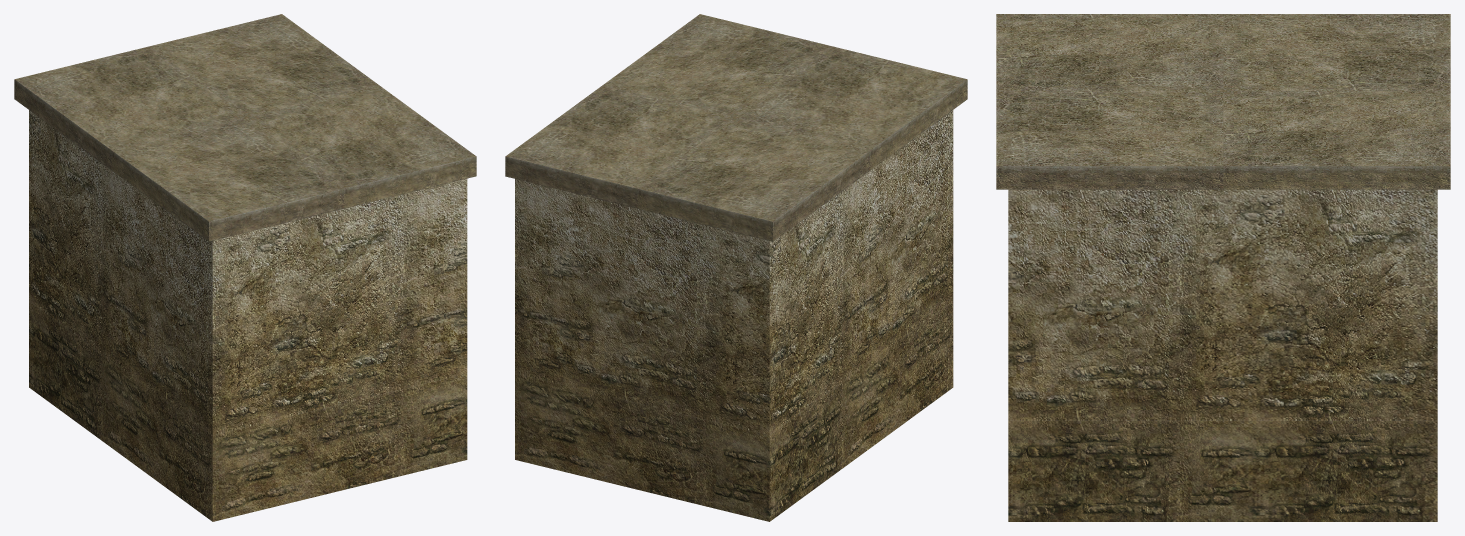
Rendered from hrt_house5.glb.
The picture shows the model from 3 angles, left to right: view 1: azimuth 30°, elevation 25°; view 2: azimuth 150°, elevation 25°; view 3: azimuth 270°, elevation 25°; orthographic projection. The views are drawn at different scales.
Visible parts, largest first — view 1: hrt_house5; view 2: hrt_house5; view 3: hrt_house5.
Part boxes in pixels (x1,y1,x2,y2): hrt_house5: (14, 14, 476, 521); hrt_house5: (505, 14, 967, 521); hrt_house5: (996, 14, 1450, 521).
Size of the model in its own units: 4.2 by 4.6 by 5.29.
Materials: 5 (5 with a texture image).
